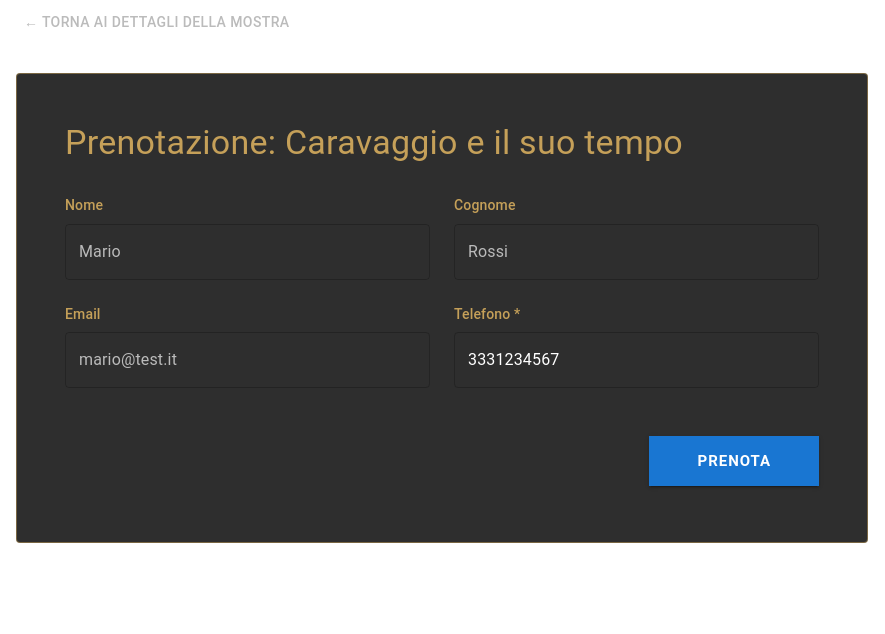
Test: FormPrenotazione › mostra l'errore restituito dal backend
What coordinates should you click on to do the following:
click the button "PRENOTA"
I would click on:
 (734, 461)
Its box is [650, 436, 819, 486].
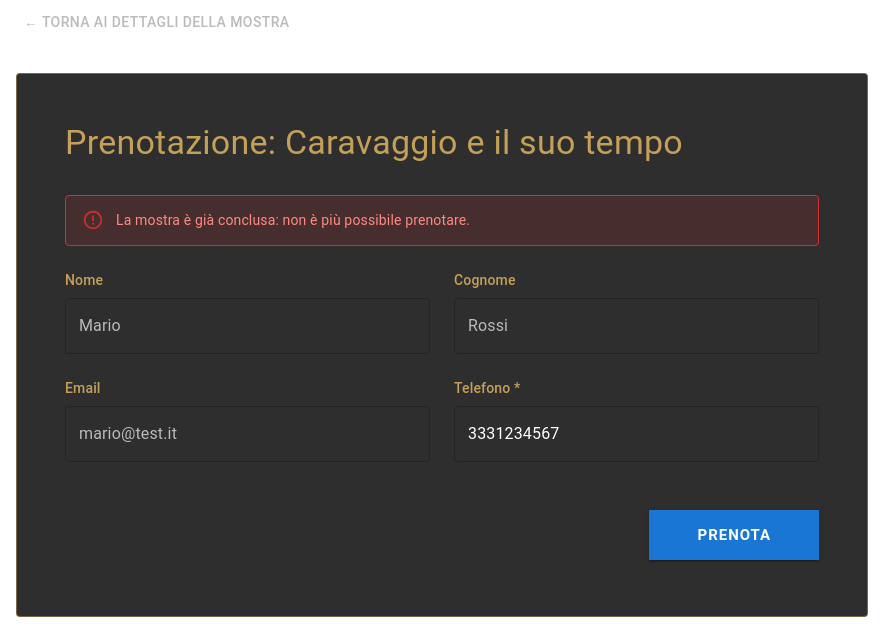
Result: the message shows "già conclusa" at [116, 212, 470, 228]
